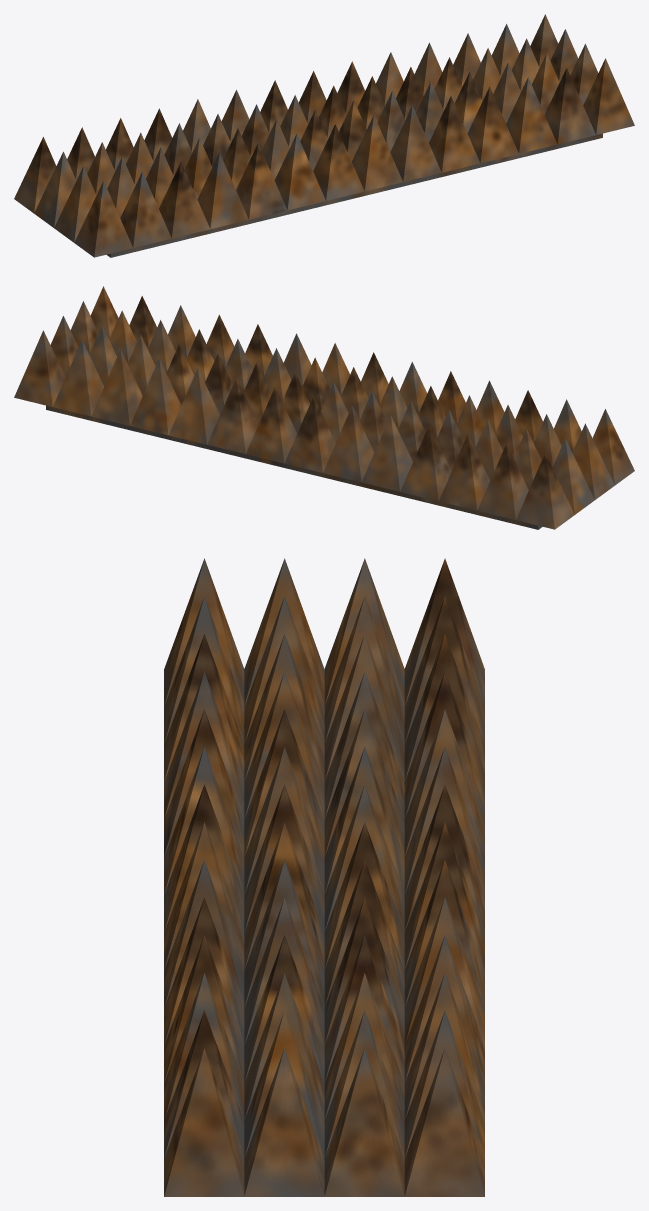
File: Spike_Pit_Platform_1_Spikes.fbx
3 views of the same model, one above another, from view 1: azimuth 30°, elevation 25°; view 2: azimuth 150°, elevation 25°; view 3: azimuth 270°, elevation 25° (orthographic). The views are drawn at different scales.
Parts seen in each view (by area): view 1: Spike_Pit_Platform_1_Spikes1; view 2: Spike_Pit_Platform_1_Spikes1; view 3: Spike_Pit_Platform_1_Spikes1.
Part boxes in pixels (x1=…): Spike_Pit_Platform_1_Spikes1: x1=14, y1=14, x2=634, y2=257; Spike_Pit_Platform_1_Spikes1: x1=14, y1=286, x2=634, y2=529; Spike_Pit_Platform_1_Spikes1: x1=164, y1=558, x2=484, y2=1196.
Bounding box in the file's own units: 7.59 × 1.03 × 1.95.
